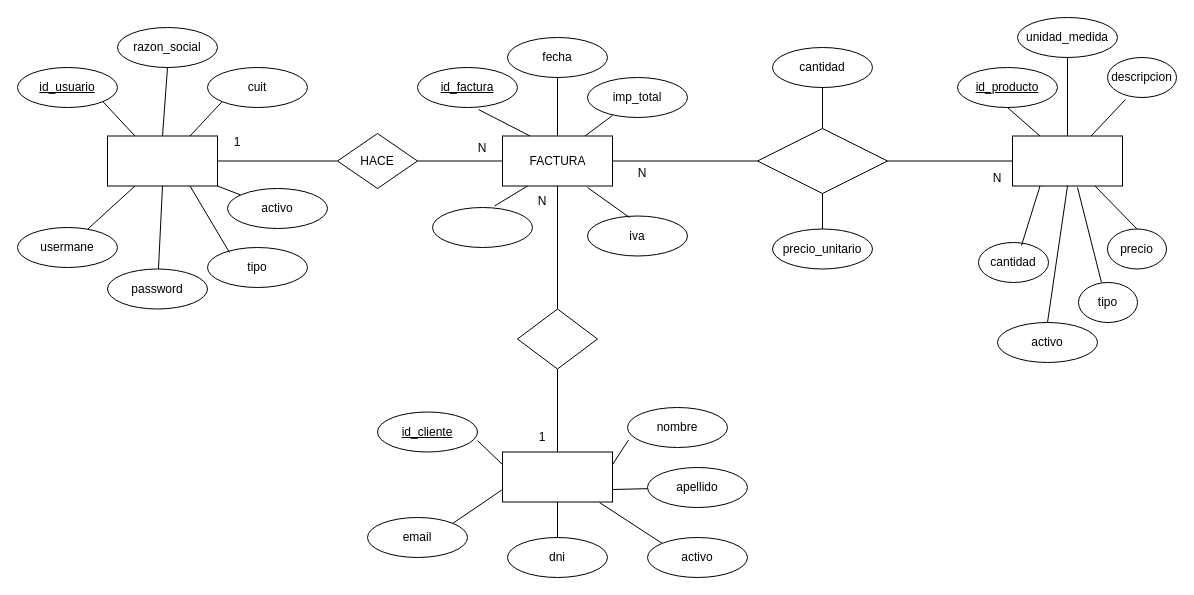
Image size: 1194x595. Some labels were removed from this diagram. Here are the shapes that lost their labels. From the top down, the centre of each, then its label:
[162,160]: USUARIO
[822,161]: COMPUESTA POR
[1067,160]: PRODUCTO
[482,227]: imp_neto
[557,338]: TIENE
[557,476]: CLIENTE
